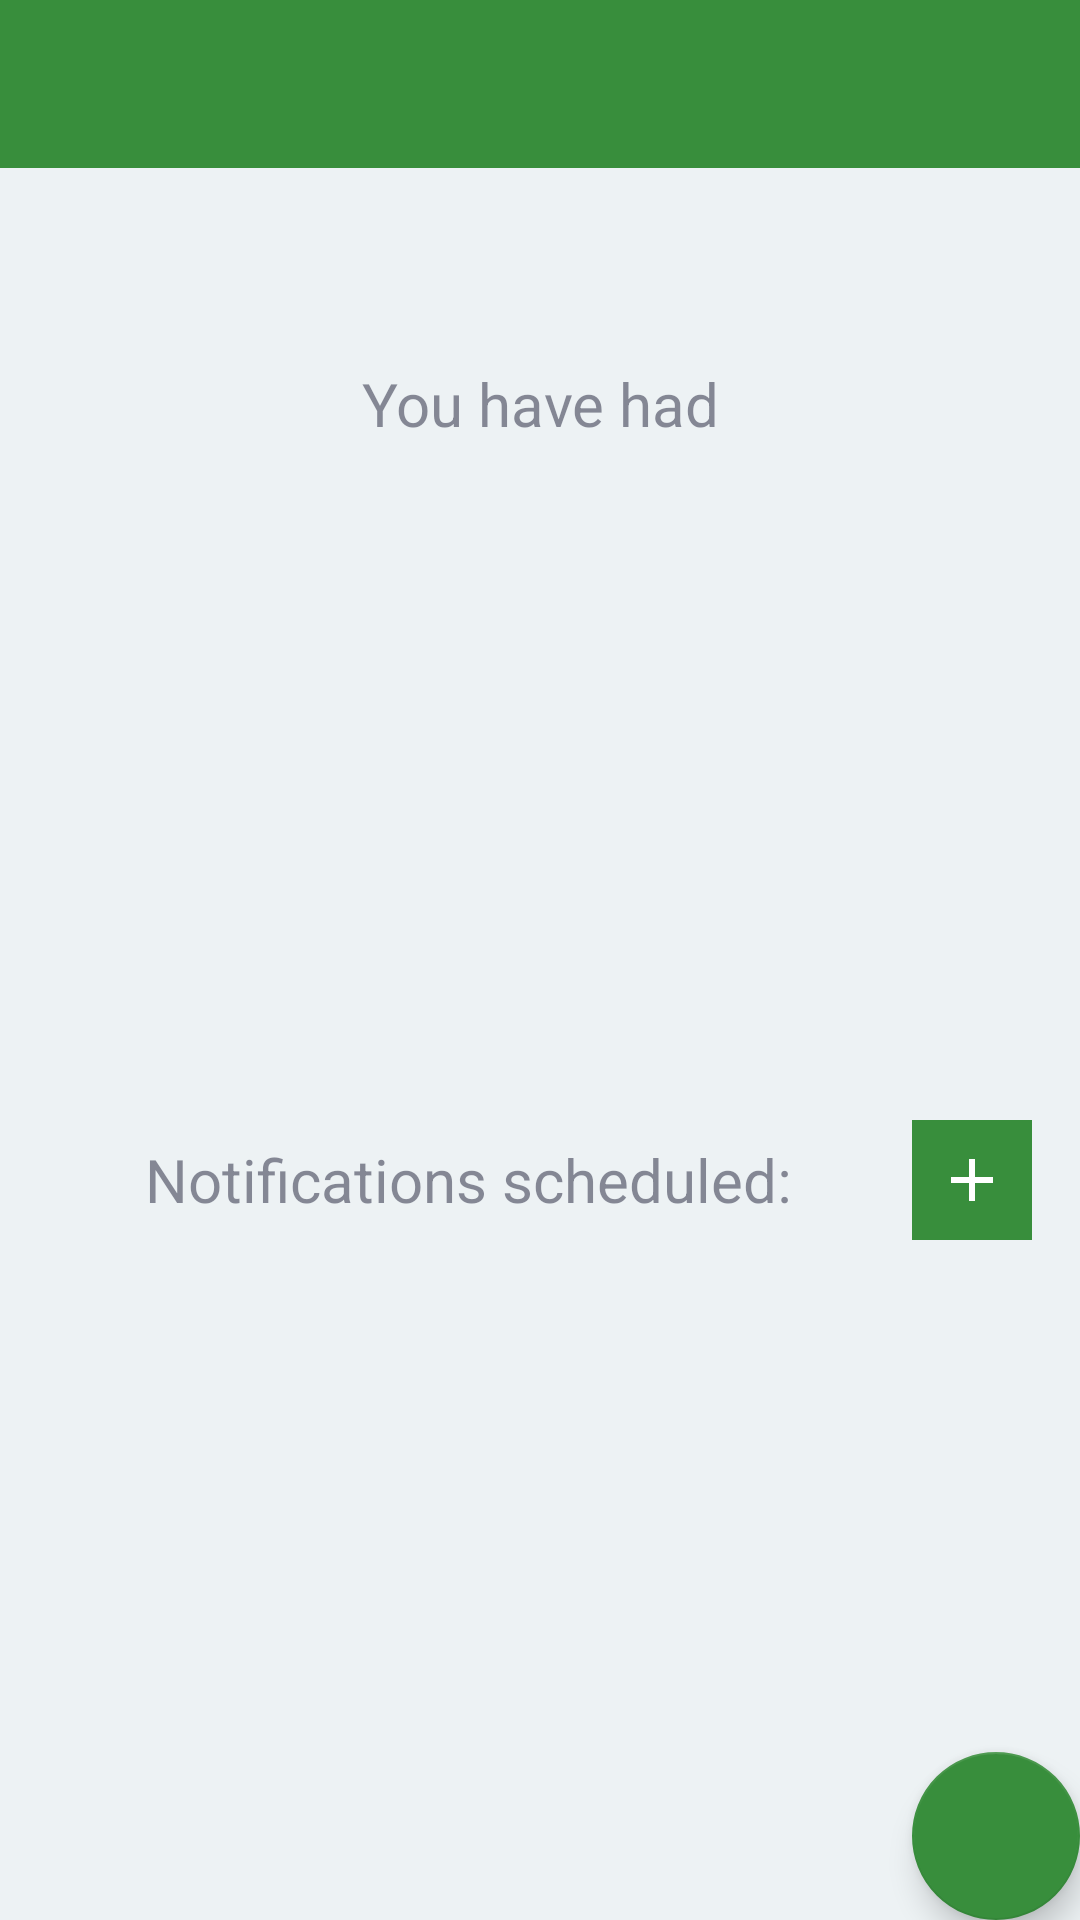

Screen size 1080w x 1920h. Icon name, then its center in pixels as (x,y):
add: (972,1180)
